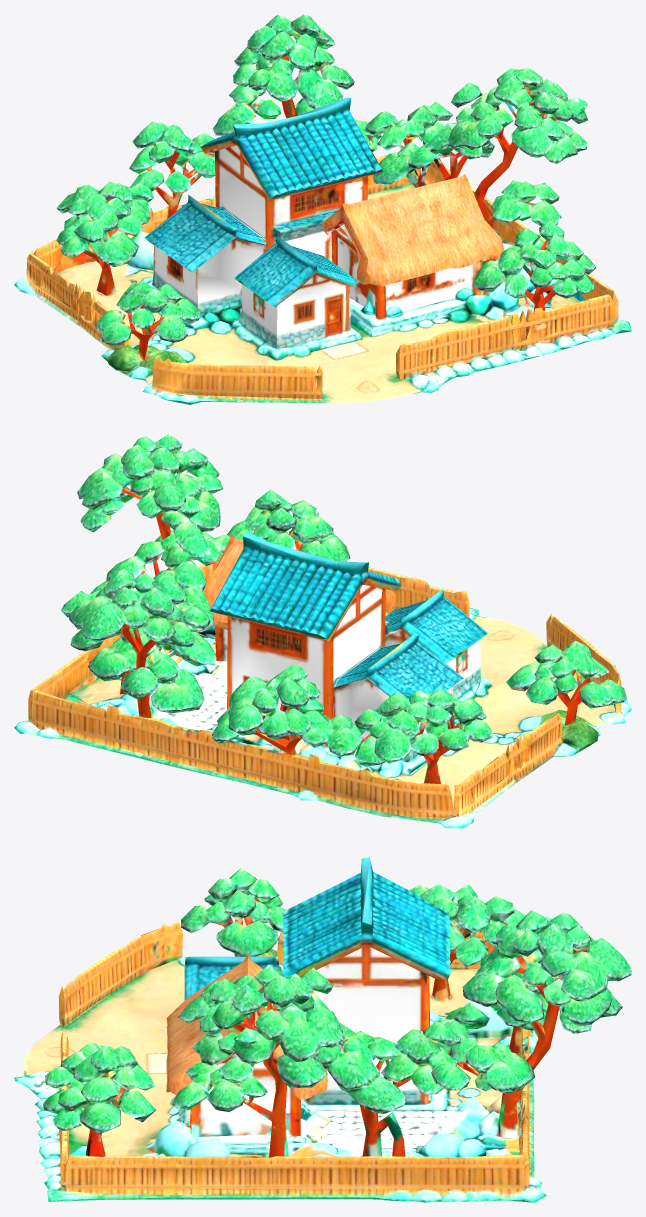
Rendered from ql_cottage_lo.glb.
3 renders of one model, top to bottom at view 1: azimuth 30°, elevation 25°; view 2: azimuth 150°, elevation 25°; view 3: azimuth 270°, elevation 25°, orthographic. The views are drawn at different scales.
Visible parts, largest first — view 1: ql_cottage; view 2: ql_cottage; view 3: ql_cottage.
Part boxes in pixels (x1,y1,x2,y2): ql_cottage: [14, 14, 631, 404]; ql_cottage: [14, 433, 631, 828]; ql_cottage: [14, 857, 631, 1202].
Bounding box in the file's own units: 16 × 6 × 14.97.
1 material, 1 textured.
